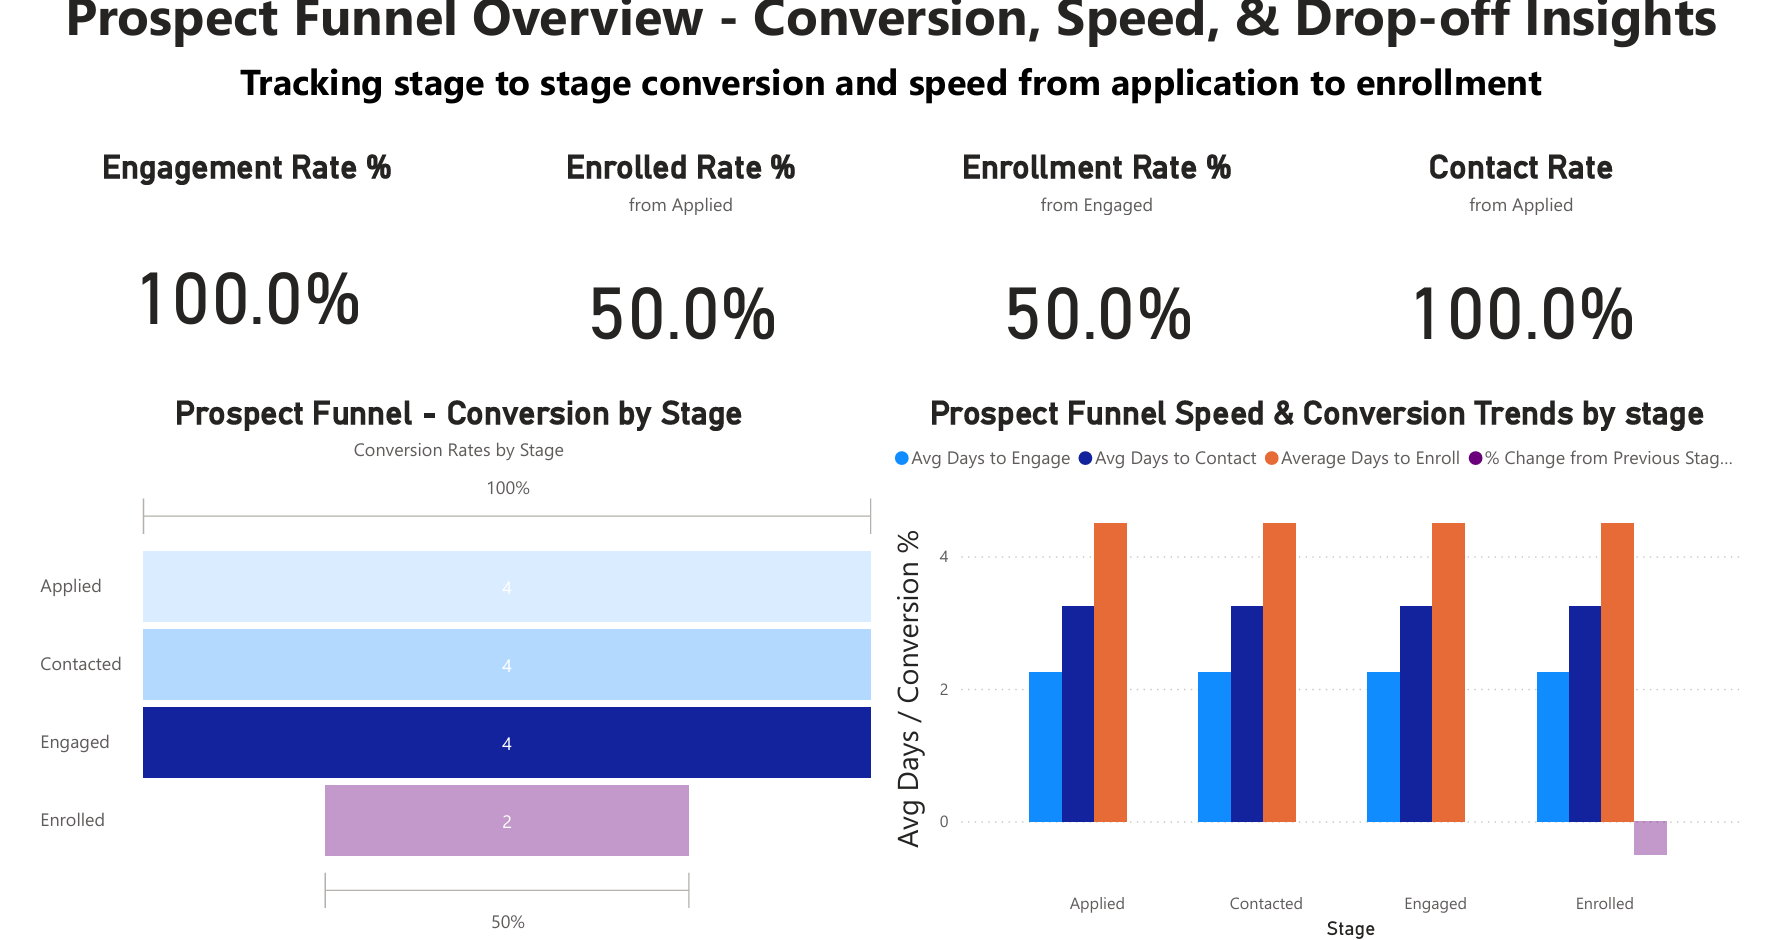

Layout of this report page (visuals, bound fields, positions):
{"tool":"powerbi","page":{"name":"Funnel Dashboard","canvas":[1280,720],"ordinal":0},"visuals":[{"type":"funnel","title":"Prospect Funnel - Conversion by Stage","fields":{"Category":["FunnelStages.Stage"],"Y":["Sum(FunnelStages.Count)"]},"box":[9.4,308,629.3,408.2],"z":0},{"type":"card","title":"Engagement Rate %","fields":{"Values":["FunnelStages.Engaged Conversion %"]},"box":[9.6,126.3,314.7,181],"z":1000},{"type":"card","title":"Enrolled Rate %","fields":{"Values":["FunnelStages.Enrolled Conversion %"]},"box":[324.3,126.3,329.1,181],"z":2000},{"type":"card","title":"Enrollment Rate %","fields":{"Values":["FunnelStages.Enrollment from Engaged %"]},"box":[639,126.3,314.7,181],"z":3000},{"type":"card","title":"Contact Rate","fields":{"Values":["FunnelStages.Contacted from Applied %"]},"box":[953.6,126.3,314.7,181],"z":4000},{"type":"textbox","title":"Prospect Funnel Overview - Conversion, Speed, & Drop-off Insights","box":[9.4,0,1269.9,124.7],"z":5000},{"type":"lineClusteredColumnComboChart","title":"Prospect Funnel Speed & Conversion Trends by stage","fields":{"Category":["FunnelStages.Stage"],"Y":["FunnelStages.Avg Days to Engage","FunnelStages.Avg Days to Contact","FunnelStages.Average Days to Enroll","FunnelStages.% Change from Previous Stage %"]},"box":[641.2,307.8,637.3,407.8],"z":6000}]}

Visuals, with their boxes on the page's 1280x720 design canvas (x1, y1, x2, y2). These are canvas units, not pixel positions in the 1777x940 screenshot, which may show the page scaled, cropped or inside an application window:
"Prospect Funnel - Conversion by Stage" funnel: {"x1": 9, "y1": 308, "x2": 639, "y2": 716}
"Engagement Rate %" card: {"x1": 10, "y1": 126, "x2": 324, "y2": 307}
"Enrolled Rate %" card: {"x1": 324, "y1": 126, "x2": 653, "y2": 307}
"Enrollment Rate %" card: {"x1": 639, "y1": 126, "x2": 954, "y2": 307}
"Contact Rate" card: {"x1": 954, "y1": 126, "x2": 1268, "y2": 307}
"Prospect Funnel Overview - Conversion, Speed, & Drop-off Insights" textbox: {"x1": 9, "y1": 0, "x2": 1279, "y2": 125}
"Prospect Funnel Speed & Conversion Trends by stage" lineClusteredColumnComboChart: {"x1": 641, "y1": 308, "x2": 1278, "y2": 716}
